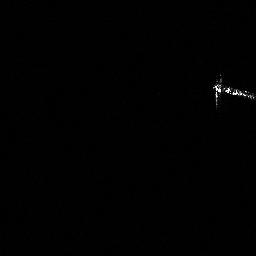ship: (208, 71, 256, 111)
